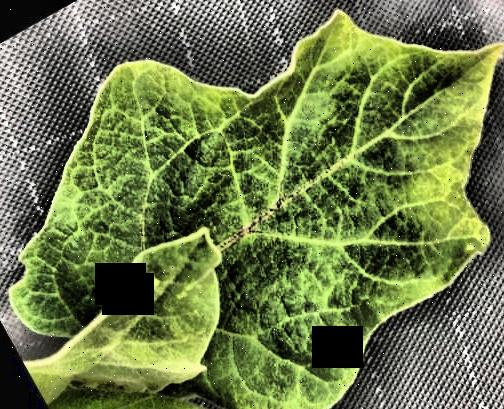HEALTHY: (1, 0, 504, 409)
